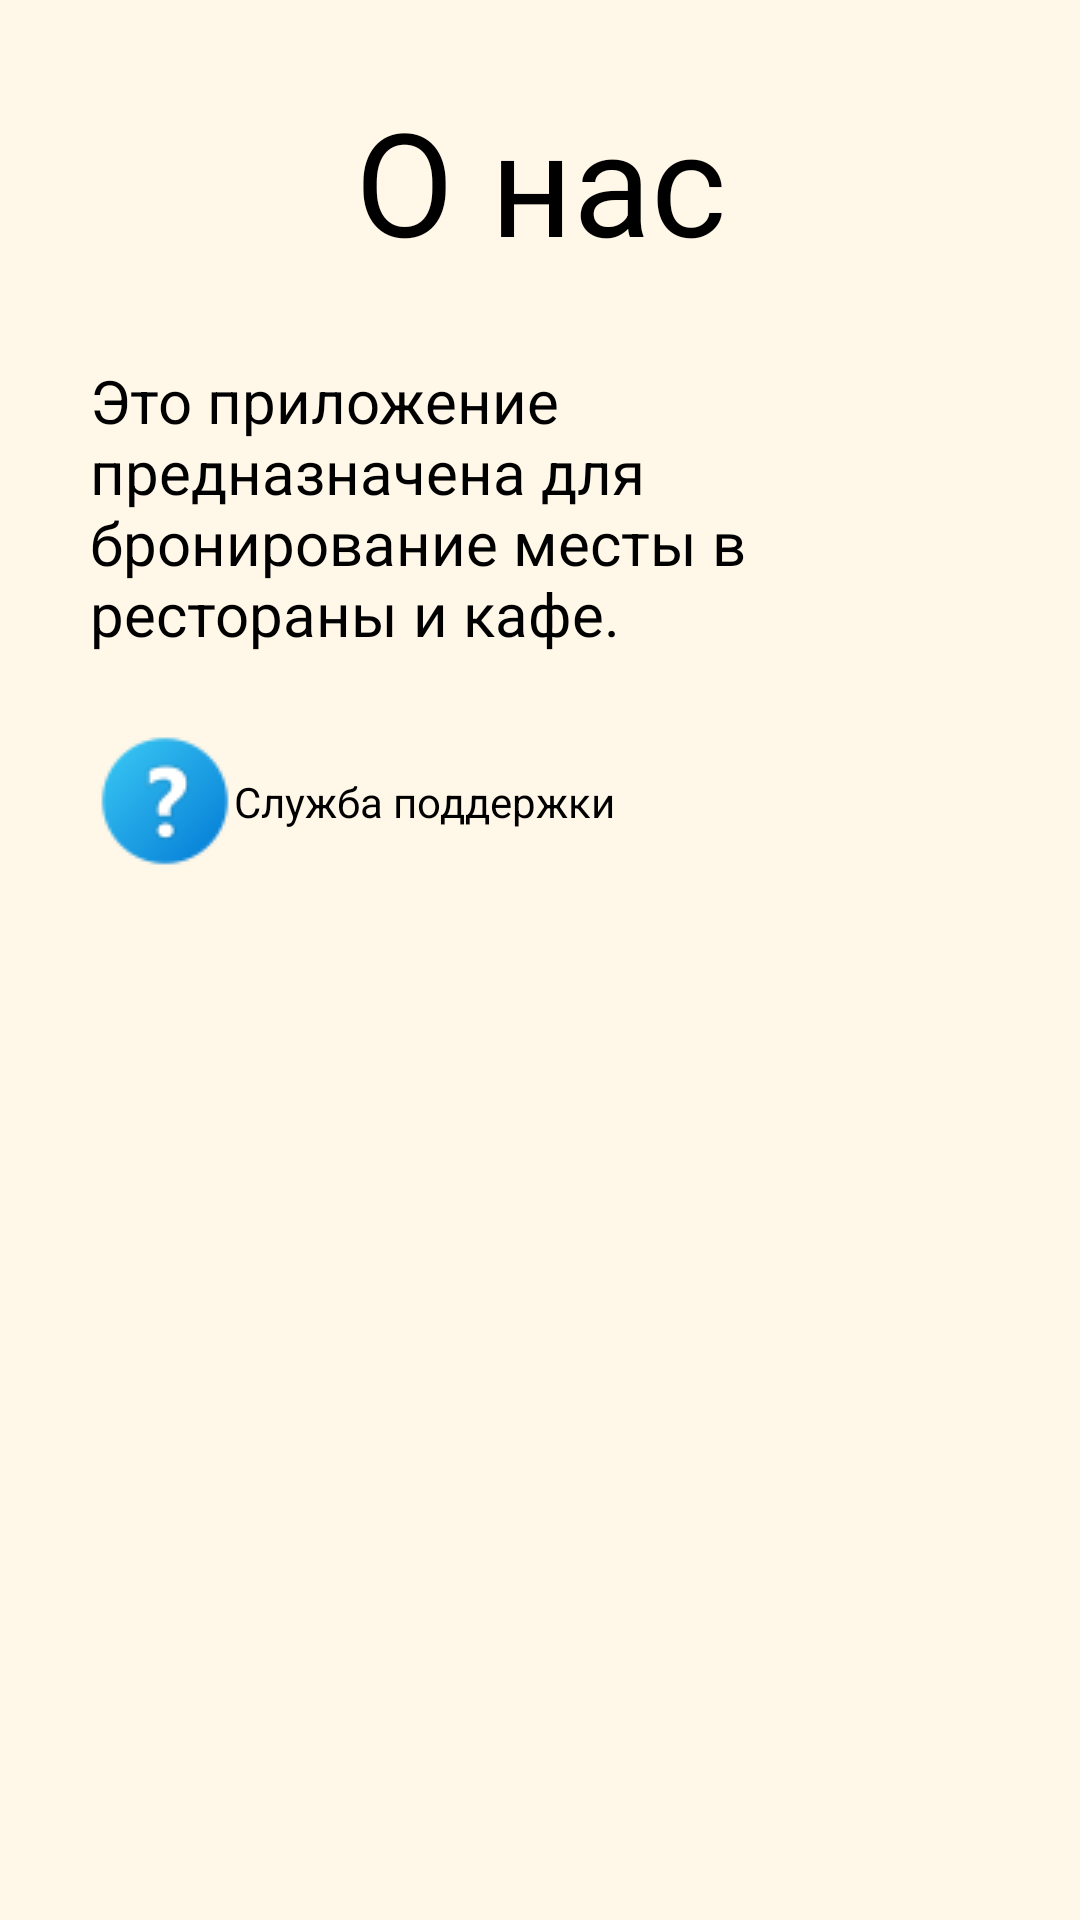

Named icons in this screenshot (1080*1920) and their bounding boxes, region(x1, y1, x2, y2):
help: region(101, 737, 229, 865)
